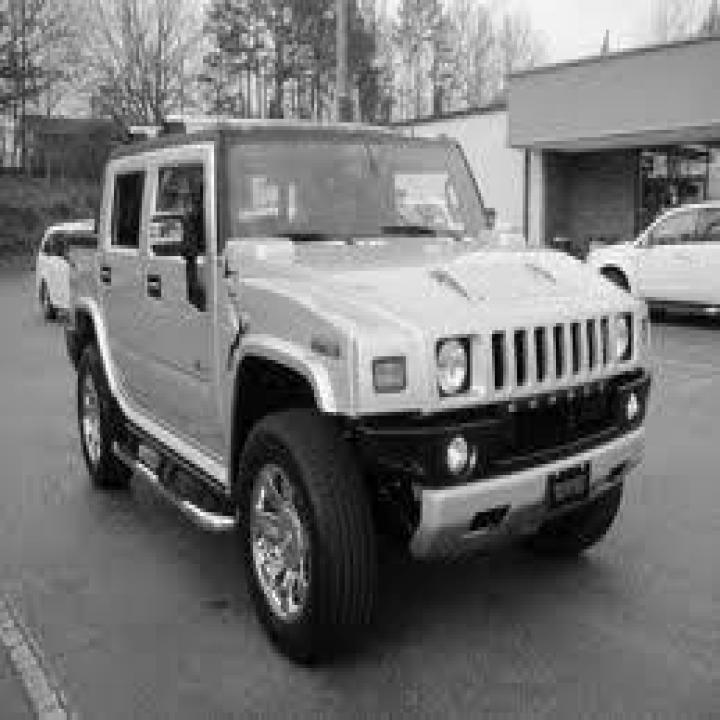car: (36, 111, 653, 661), (584, 197, 717, 323)
